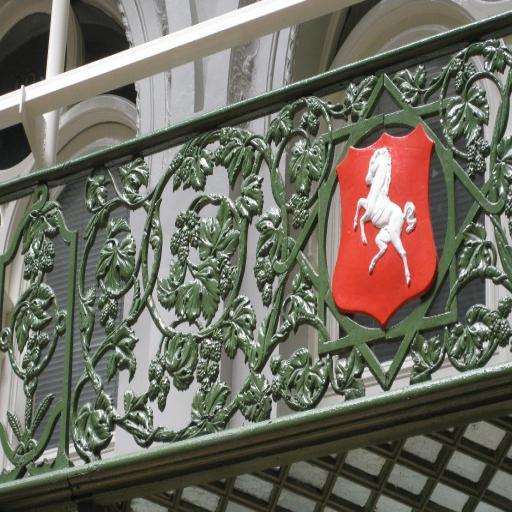horse: (354, 146, 418, 288)
